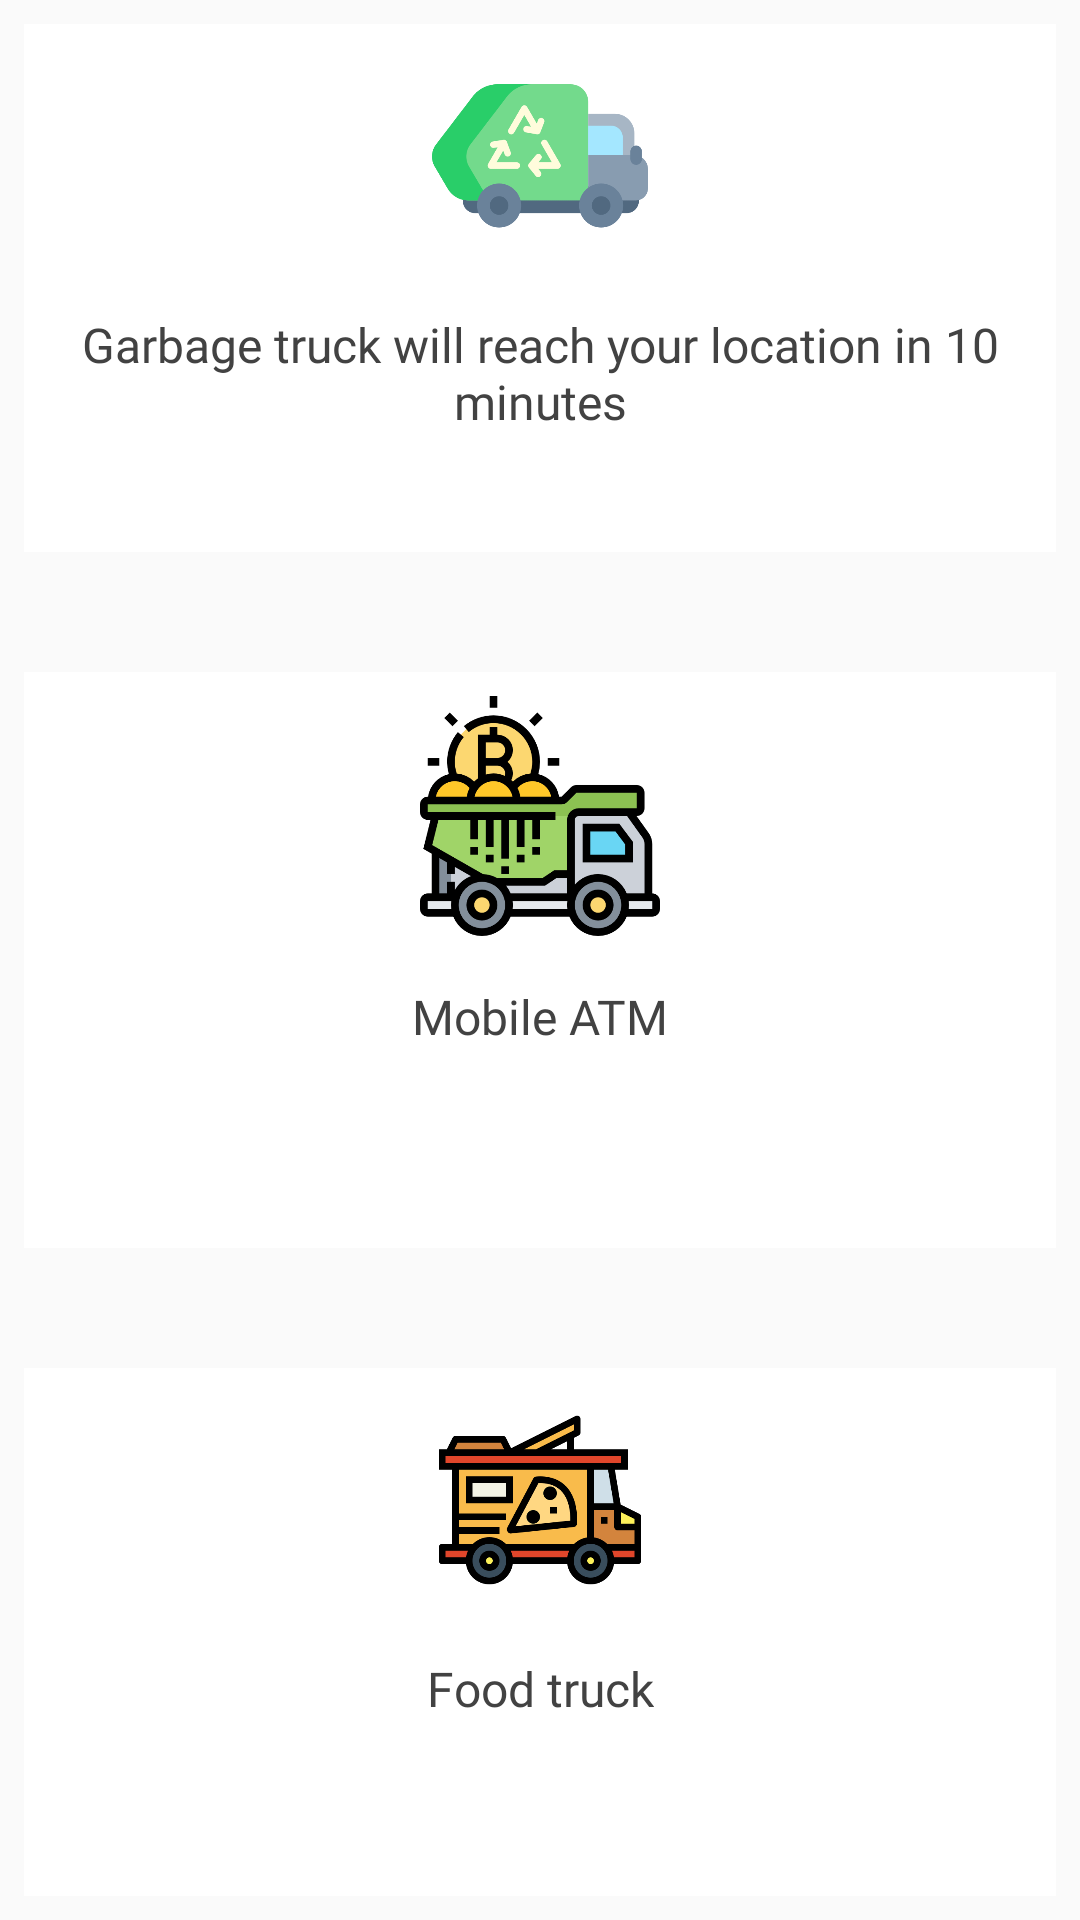

Icon bounding boxes for this 1080×1920 phone screenshot, format region(x1, y1, x2, y2):
ftruck: region(439, 1415, 641, 1585)
gtruck: region(432, 84, 648, 228)
